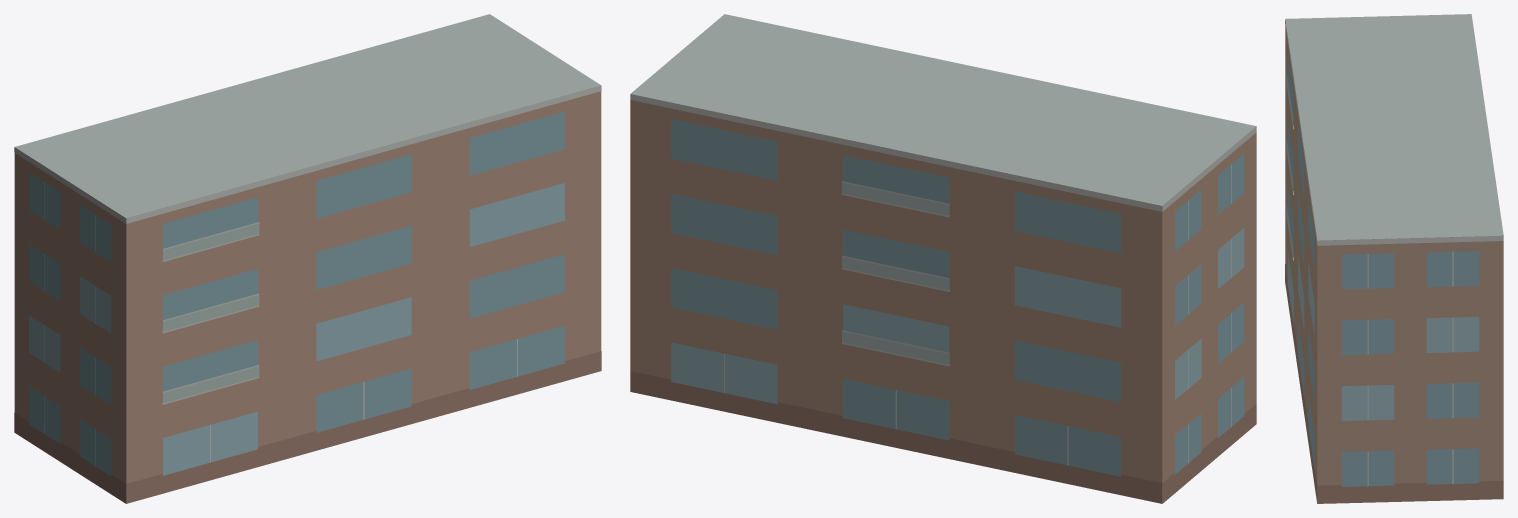
The model's file is residential-30e0b458-7e57-4df8-a2d7-1142a09e82d3.glb.
3 renders of one model, left to right at view 1: azimuth 30°, elevation 25°; view 2: azimuth 150°, elevation 25°; view 3: azimuth 270°, elevation 25°, orthographic. The views are drawn at different scales.
Visible parts, largest first — view 1: residential-30e0b458-7e57-4df8-a2d7-1142a09e82d3.tmp; view 2: residential-30e0b458-7e57-4df8-a2d7-1142a09e82d3.tmp; view 3: residential-30e0b458-7e57-4df8-a2d7-1142a09e82d3.tmp.
Part boxes in pixels (x1,y1,x2,y2): residential-30e0b458-7e57-4df8-a2d7-1142a09e82d3.tmp: (14,14,601,503); residential-30e0b458-7e57-4df8-a2d7-1142a09e82d3.tmp: (630,14,1256,503); residential-30e0b458-7e57-4df8-a2d7-1142a09e82d3.tmp: (1285,14,1503,503).
Size of the model in its own units: 22.51 by 12.2 by 9.18.
